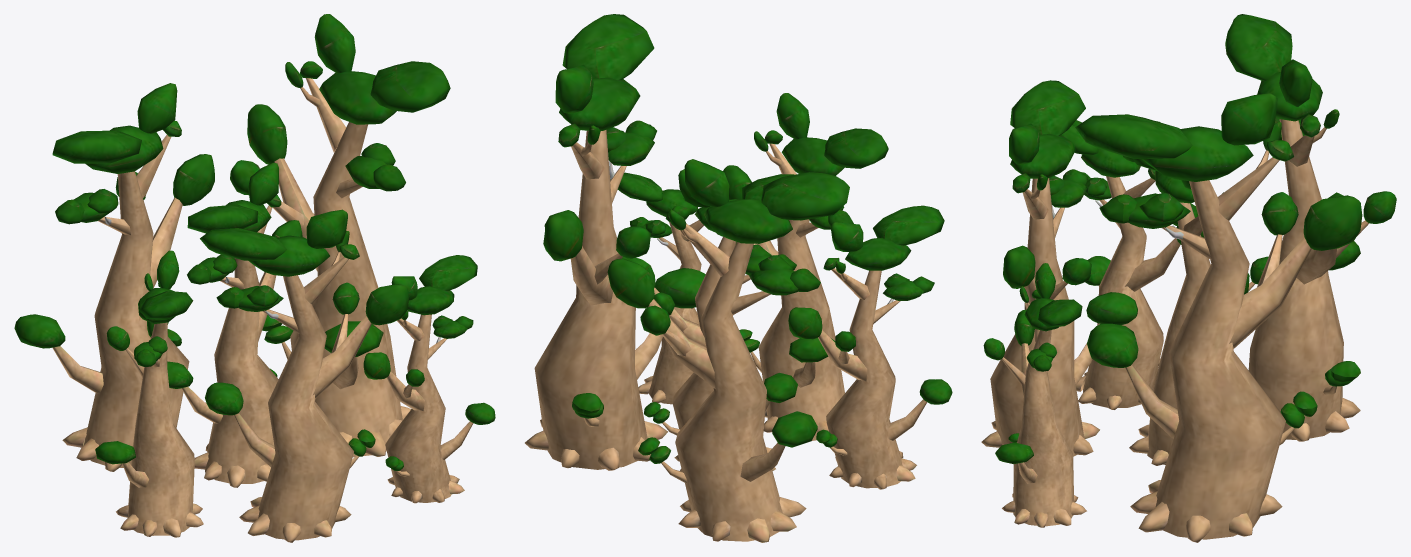
File: foret.fbx
The picture shows the model from 3 angles, left to right: view 1: azimuth 30°, elevation 25°; view 2: azimuth 150°, elevation 25°; view 3: azimuth 270°, elevation 25°; orthographic projection. The views are drawn at different scales.
Parts seen in each view (by area): view 1: Arbre.002, Arbre, Arbre.003, Arbre.001, Arbre.004, Arbre.005; view 2: Arbre, Arbre.003, Arbre.004, Arbre.002, Arbre.001, Arbre.005; view 3: Arbre, Arbre.003, Arbre.002, Arbre.005, Arbre.004, Arbre.001.
Part boxes in pixels (<box>): Arbre.002: <box>200,209,408,542</box>; Arbre: <box>230,14,450,457</box>; Arbre.003: <box>14,83,214,471</box>; Arbre.001: <box>167,162,302,487</box>; Arbre.004: <box>95,250,203,537</box>; Arbre.005: <box>363,255,495,503</box>; Arbre: <box>525,14,705,470</box>; Arbre.003: <box>607,159,849,542</box>; Arbre.004: <box>788,205,952,489</box>; Arbre.002: <box>716,93,888,440</box>; Arbre.001: <box>622,169,797,471</box>; Arbre.005: <box>610,172,736,404</box>; Arbre: <box>1075,93,1362,542</box>; Arbre.003: <box>1225,14,1396,441</box>; Arbre.002: <box>981,80,1137,456</box>; Arbre.005: <box>983,263,1086,527</box>; Arbre.004: <box>1061,120,1204,409</box>; Arbre.001: <box>1129,121,1268,465</box>.
Bounding box in the file's own units: 7.48 × 7.74 × 6.86.
